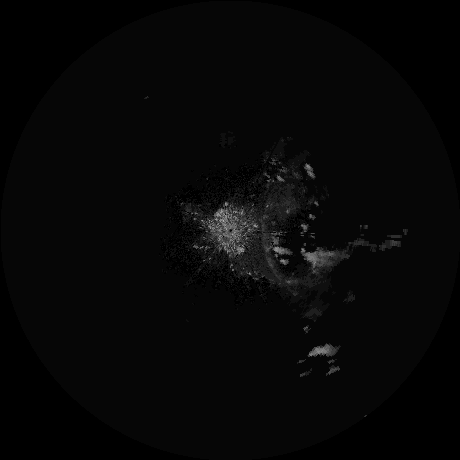frontgust: (259, 220, 280, 281)
